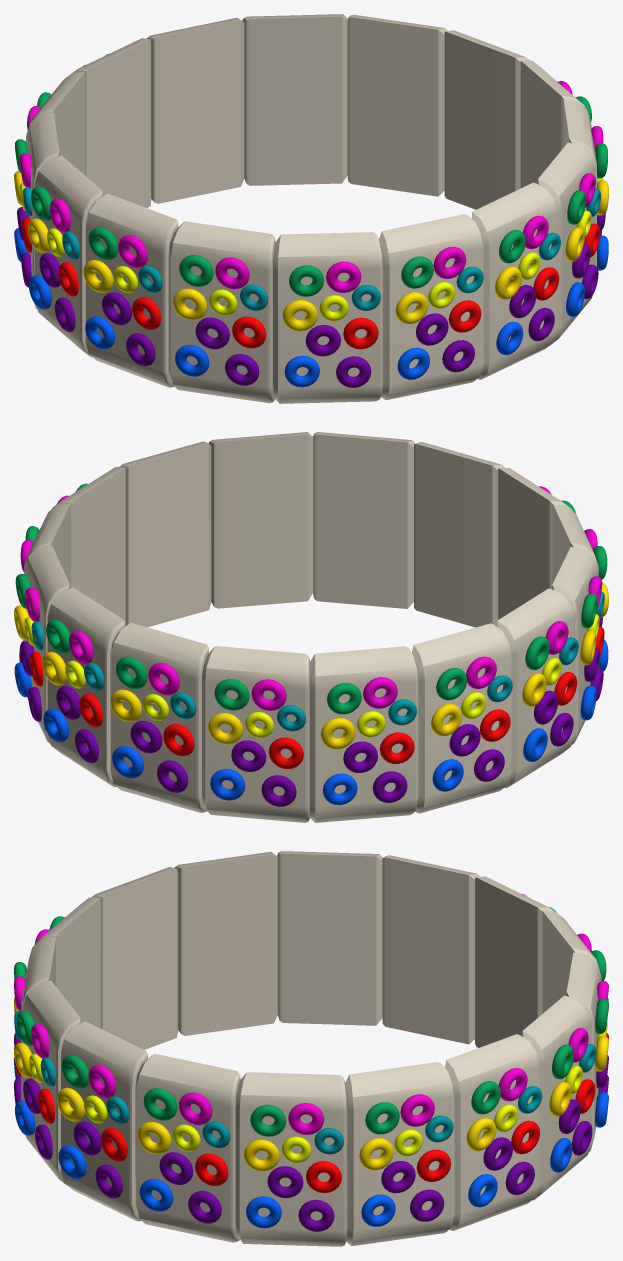
File: Diskatmanseker.fbx
The picture shows the model from 3 angles, top to bottom: view 1: azimuth 30°, elevation 25°; view 2: azimuth 150°, elevation 25°; view 3: azimuth 270°, elevation 25°; orthographic projection.
Parts seen in each view (by area): view 1: pCylinder214, pCylinder213, pCylinder215, pCylinder222, pCylinder212, pCylinder221, pCylinder207, pCylinder216, pCylinder220, pCylinder208, pTorus7 (×7), pTorus1 (×7) (+13 smaller); view 2: pCylinder209, pCylinder208, pCylinder210, pCylinder207, pCylinder217, pCylinder216, pCylinder218, pCylinder215, pCylinder211, pCylinder222, pCylinder219, pCylinder214 (+13 smaller); view 3: pCylinder219, pCylinder220, pCylinder218, pCylinder221, pCylinder211, pCylinder212, pCylinder210, pCylinder217, pCylinder213, pCylinder209, pCylinder214, pTorus4 (×7) (+13 smaller).
Part boxes in pixels (x1,y1,x2,y2): pCylinder214: (242,14,347,185); pCylinder213: (347,14,447,196); pCylinder215: (146,17,244,203); pCylinder222: (273,232,383,403); pCylinder212: (444,30,529,209); pCylinder221: (168,221,275,403); pCylinder207: (379,214,483,400); pCylinder216: (74,38,151,207); pCylinder220: (85,193,178,387); pCylinder208: (472,182,557,379); pTorus7 (×7): (27,218,584,331); pTorus1 (×7): (31,186,586,296); pCylinder209: (208,432,312,608); pCylinder208: (313,432,414,608); pCylinder210: (119,441,211,627); pCylinder207: (414,442,505,627); pCylinder217: (310,646,418,822); pCylinder216: (202,646,309,822); pCylinder218: (412,623,511,813); pCylinder215: (110,622,208,812); pCylinder211: (52,467,125,626); pCylinder222: (498,467,571,619); pCylinder219: (497,588,574,787); pCylinder214: (47,587,124,787); pCylinder219: (277,851,382,1025); pCylinder220: (174,851,277,1035); pCylinder218: (382,855,480,1044); pCylinder221: (91,867,178,1049); pCylinder211: (235,1072,347,1246); pCylinder212: (345,1062,454,1246); pCylinder210: (135,1053,240,1242); pCylinder217: (475,876,553,1047); pCylinder213: (445,1034,540,1230); pCylinder209: (61,1021,147,1221); pCylinder214: (522,995,591,1200); pTorus4 (×7): (15,1100,572,1228).
Bounding box in the file's own units: 2.03 × 0.638 × 2.03.
